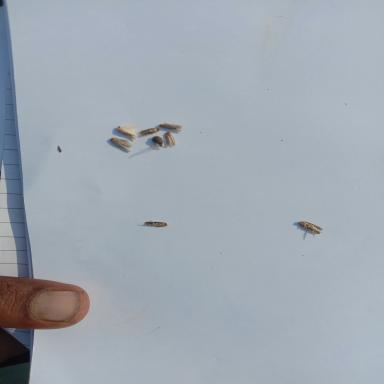pbw: (300, 220, 321, 237), (109, 137, 131, 151), (160, 122, 183, 132), (144, 220, 170, 228), (138, 126, 160, 135), (166, 132, 178, 144)
